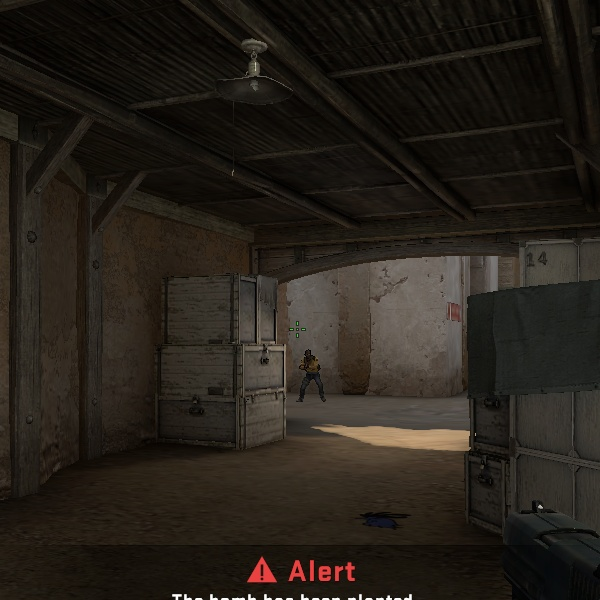t_body: (297, 349, 324, 401)
t_head: (304, 349, 312, 359)
